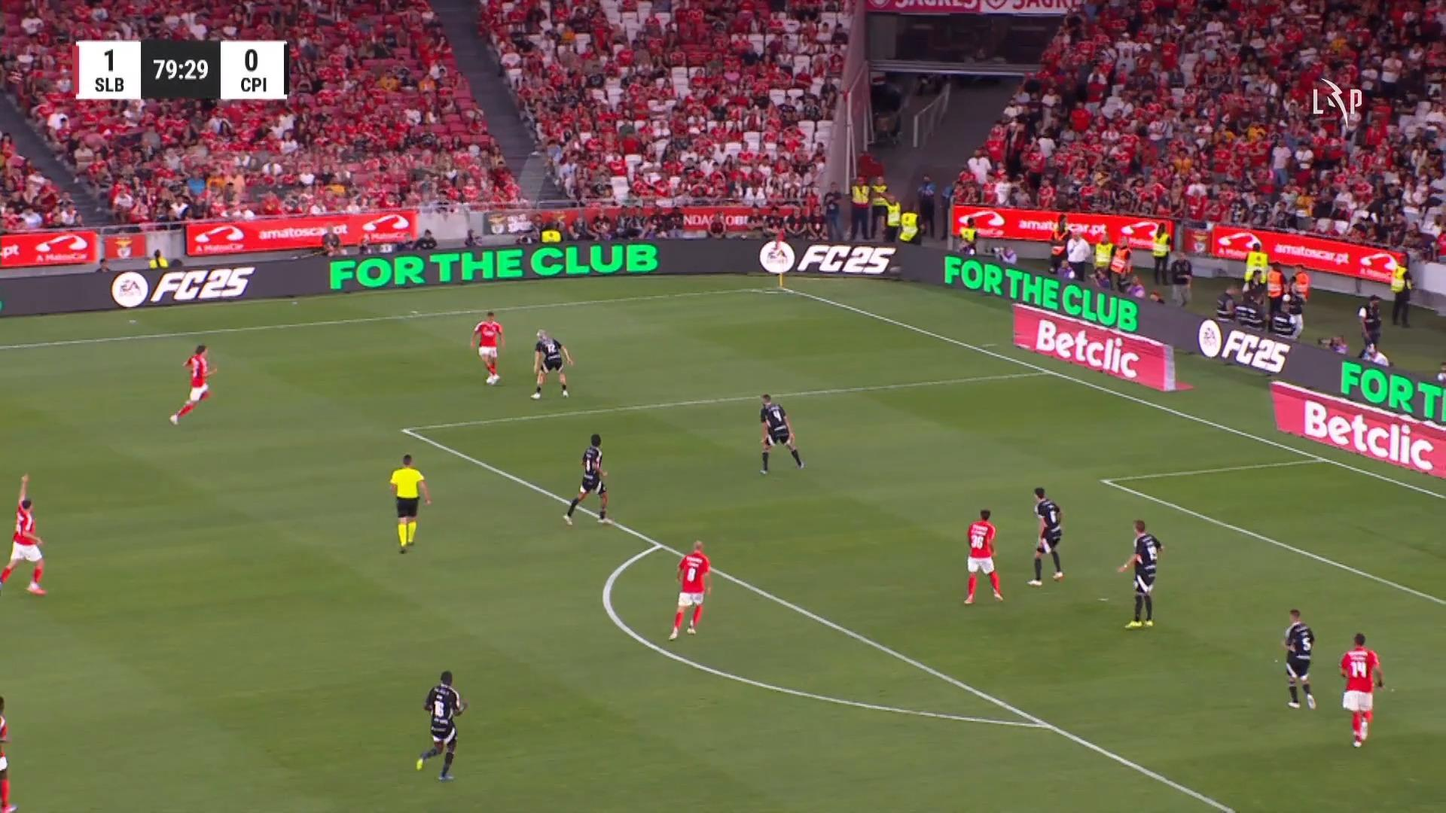player: (414, 669, 467, 781), (0, 472, 47, 595), (1338, 632, 1384, 747), (1116, 518, 1163, 628), (562, 432, 611, 525), (667, 539, 712, 640), (962, 507, 1004, 604), (168, 343, 217, 425), (758, 392, 804, 475), (1027, 486, 1064, 586), (1281, 607, 1316, 709), (529, 328, 573, 399), (470, 309, 505, 385), (0, 695, 18, 811)
referee: (388, 453, 432, 553)
